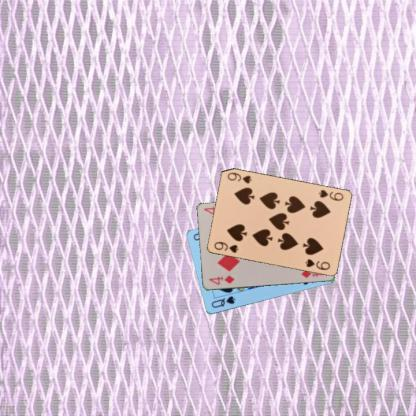4d: (206, 273, 235, 286)
9s: (211, 239, 240, 254), (316, 187, 344, 202)
Qs: (209, 294, 236, 309)
